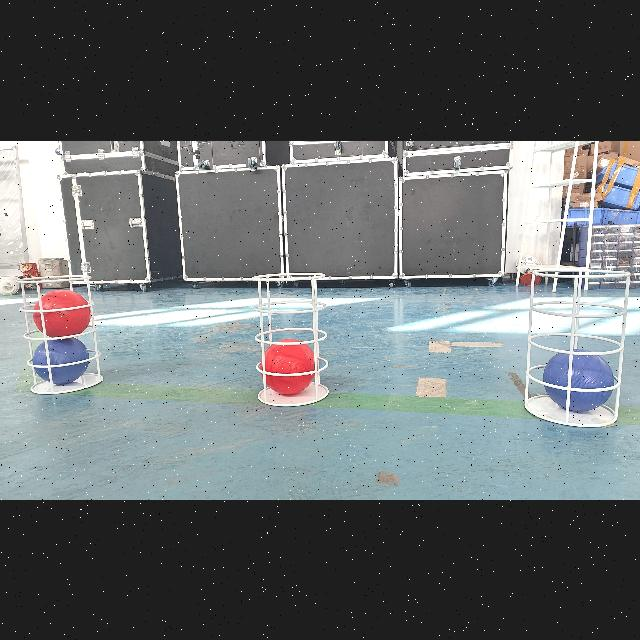B: (542, 349, 616, 413), (33, 336, 89, 384)
R: (260, 338, 320, 396), (34, 289, 92, 337)
S: (522, 265, 638, 433), (246, 266, 334, 408), (14, 273, 108, 395)
